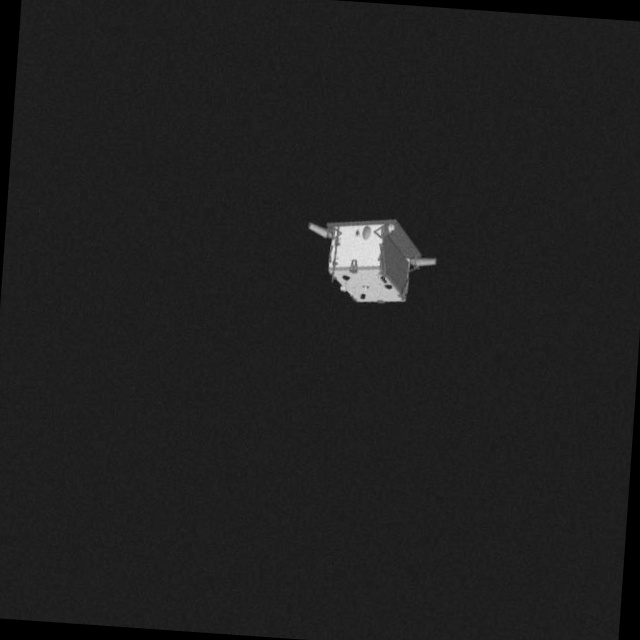satellite: (300, 215, 449, 307)
